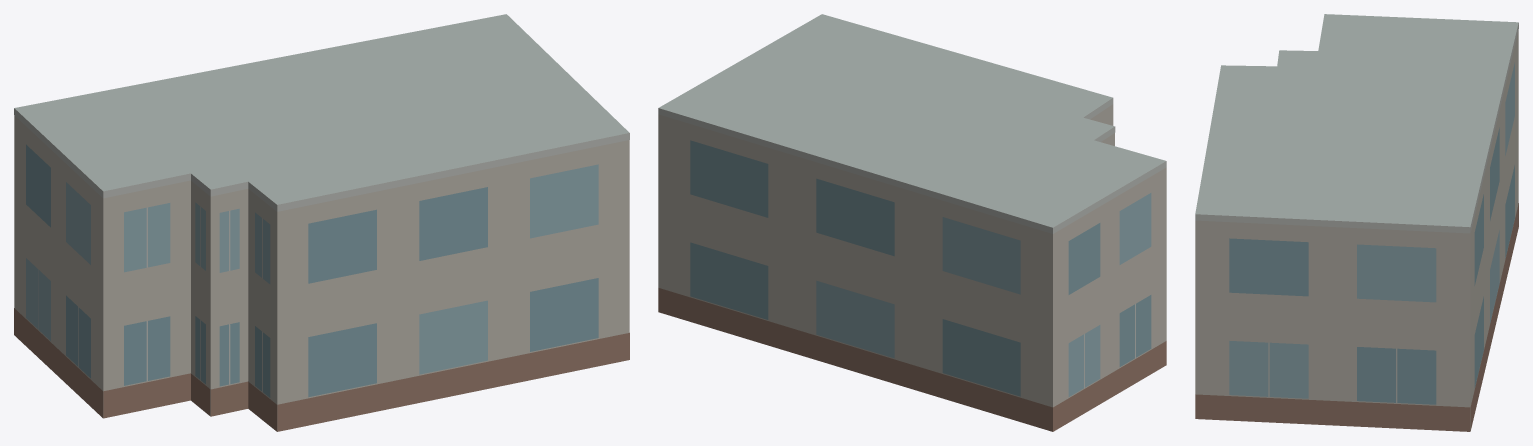
The model's file is survey-upis-32767350.glb.
3 views of the same model, side by side, from view 1: azimuth 30°, elevation 25°; view 2: azimuth 150°, elevation 25°; view 3: azimuth 270°, elevation 25° (orthographic). The views are drawn at different scales.
Parts seen in each view (by area): view 1: survey-upis-32767350.tmp; view 2: survey-upis-32767350.tmp; view 3: survey-upis-32767350.tmp.
Boxes of the visible parts, x1,y1,x2,y2 form: survey-upis-32767350.tmp: [14, 14, 629, 431]; survey-upis-32767350.tmp: [658, 14, 1166, 431]; survey-upis-32767350.tmp: [1195, 14, 1518, 431].
Size of the model in its own units: 17.65 by 7.9 by 11.33.
